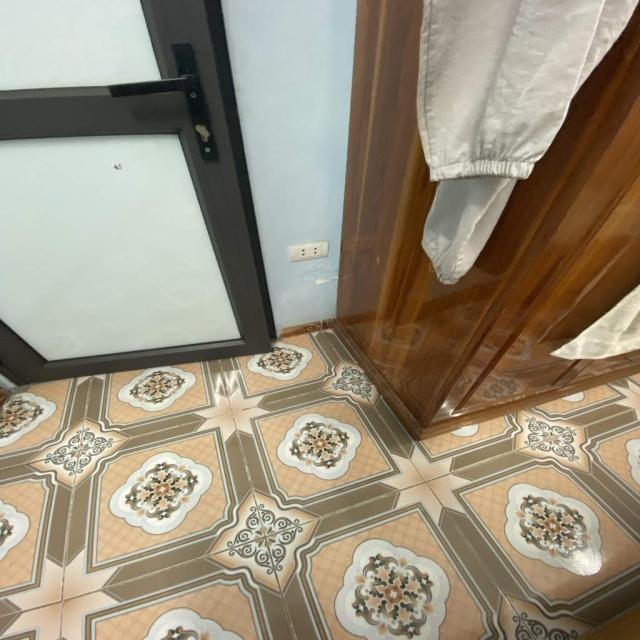outlet: (288, 240, 329, 262)
